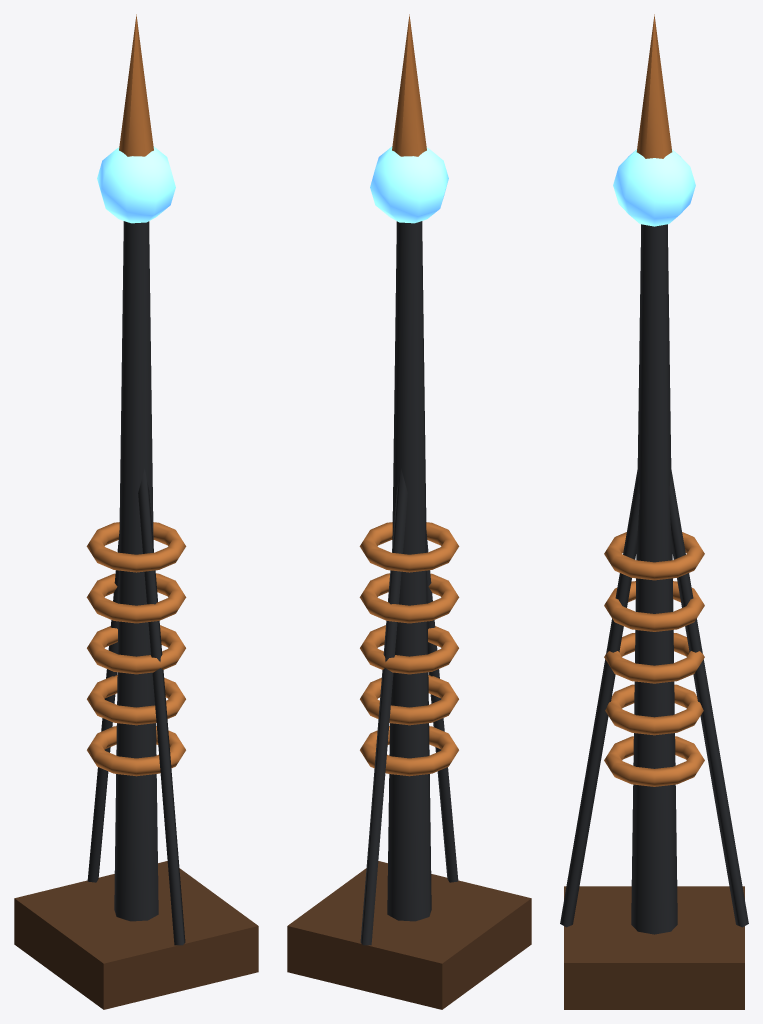
The model's file is mount-rod.glb.
3 views of the same model, side by side, from view 1: azimuth 30°, elevation 25°; view 2: azimuth 150°, elevation 25°; view 3: azimuth 270°, elevation 25° (orthographic).
Visible parts, largest first — view 1: Mesh_Base, Mesh_Mast, Mesh_StayS, Mesh_Insulator, Mesh_Coil4, Mesh_Point, Mesh_Coil3, Mesh_Coil2, Mesh_Coil1, Mesh_Coil0, Mesh_StayP; view 2: Mesh_Base, Mesh_Mast, Mesh_StayP, Mesh_Insulator, Mesh_Coil4, Mesh_Point, Mesh_Coil3, Mesh_Coil2, Mesh_Coil1, Mesh_Coil0, Mesh_StayS; view 3: Mesh_Mast, Mesh_Base, Mesh_StayP, Mesh_StayS, Mesh_Insulator, Mesh_Point, Mesh_Coil1, Mesh_Coil0, Mesh_Coil2, Mesh_Coil4, Mesh_Coil3.
Part boxes in pixels (left/top/right/bottom): Mesh_Base: left=14, top=861, right=258, bottom=1009; Mesh_Mast: left=114, top=221, right=158, bottom=921; Mesh_StayS: left=138, top=469, right=185, bottom=945; Mesh_Insulator: left=97, top=146, right=175, bottom=223; Mesh_Coil4: left=86, top=522, right=186, bottom=572; Mesh_Point: left=119, top=14, right=153, bottom=156; Mesh_Coil3: left=86, top=573, right=186, bottom=623; Mesh_Coil2: left=87, top=625, right=185, bottom=674; Mesh_Coil1: left=87, top=675, right=185, bottom=725; Mesh_Coil0: left=87, top=726, right=185, bottom=776; Mesh_StayP: left=87, top=530, right=119, bottom=882; Mesh_Base: left=287, top=861, right=531, bottom=1009; Mesh_Mast: left=387, top=221, right=431, bottom=921; Mesh_StayP: left=360, top=469, right=407, bottom=945; Mesh_Insulator: left=370, top=146, right=448, bottom=223; Mesh_Coil4: left=359, top=522, right=459, bottom=572; Mesh_Point: left=392, top=14, right=426, bottom=156; Mesh_Coil3: left=359, top=573, right=459, bottom=623; Mesh_Coil2: left=360, top=625, right=458, bottom=674; Mesh_Coil1: left=360, top=675, right=458, bottom=725; Mesh_Coil0: left=360, top=726, right=458, bottom=776; Mesh_StayS: left=426, top=530, right=458, bottom=882; Mesh_Mast: left=631, top=224, right=677, bottom=934; Mesh_Base: left=564, top=886, right=744, bottom=1009; Mesh_StayP: left=669, top=470, right=748, bottom=927; Mesh_StayS: left=560, top=470, right=639, bottom=927; Mesh_Insulator: left=613, top=149, right=695, bottom=226; Mesh_Point: left=636, top=14, right=672, bottom=158; Mesh_Coil1: left=605, top=684, right=703, bottom=735; Mesh_Coil0: left=604, top=736, right=704, bottom=786; Mesh_Coil2: left=604, top=633, right=704, bottom=683; Mesh_Coil4: left=604, top=532, right=704, bottom=580; Mesh_Coil3: left=604, top=581, right=704, bottom=631.
Bounding box in the file's own units: 0.7 × 4.08 × 0.7294.
